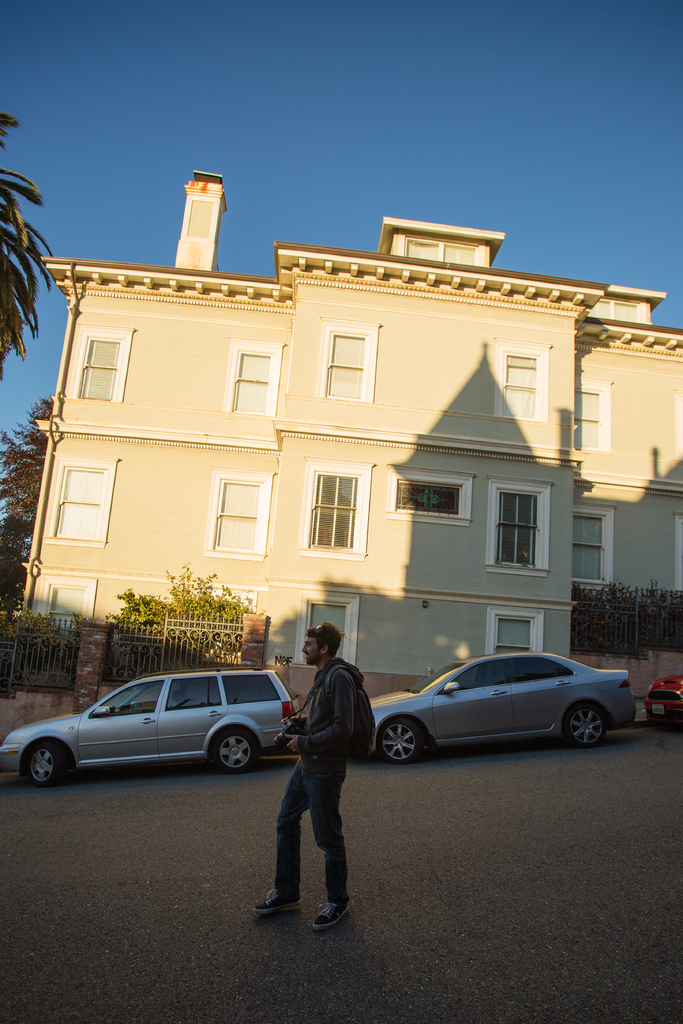Car: (24, 670, 310, 788), (356, 643, 633, 762), (643, 669, 682, 730)
